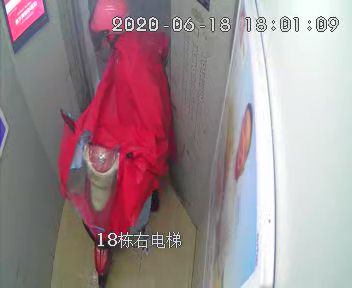Electric-bicycle: (57, 106, 158, 282)
